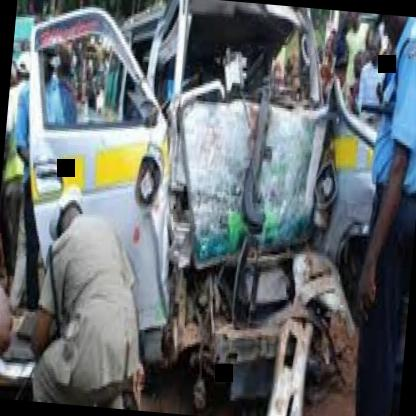accident: (13, 0, 368, 399)
